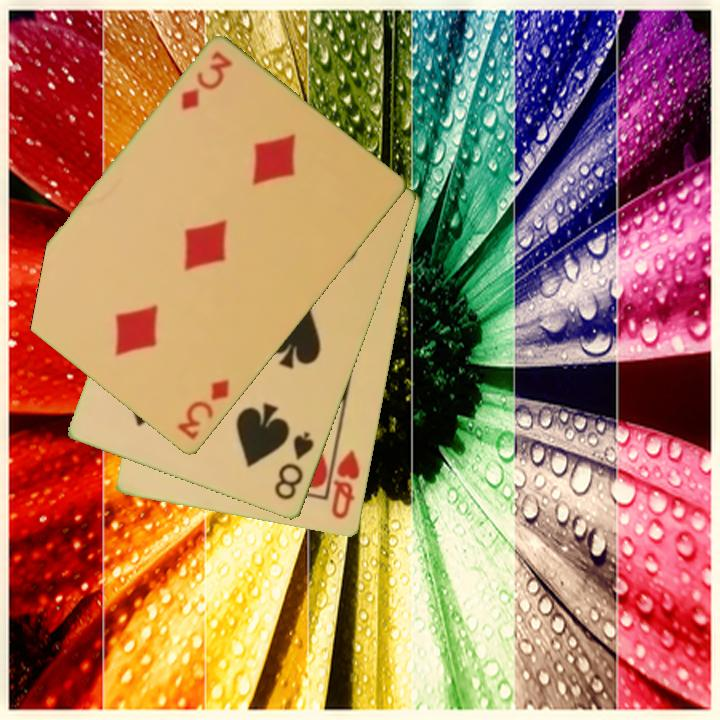3d: (174, 375, 233, 444), (177, 48, 236, 114)
8s: (271, 429, 317, 504)
Qh: (328, 446, 364, 523)
